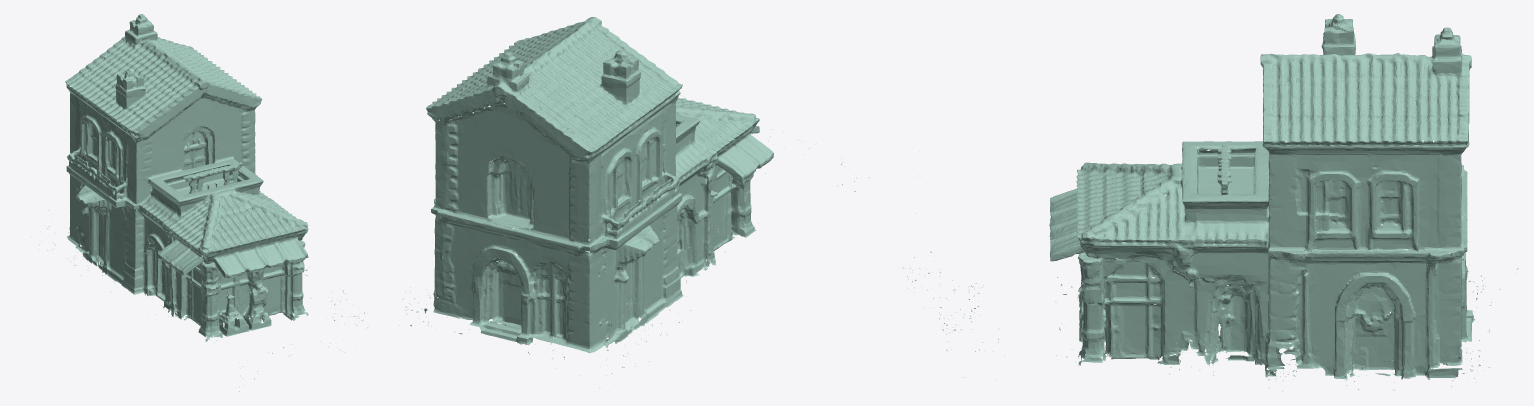
The model's file is european-block-01-building-0.glb.
3 renders of one model, left to right at view 1: azimuth 30°, elevation 25°; view 2: azimuth 150°, elevation 25°; view 3: azimuth 270°, elevation 25°, orthographic. The views are drawn at different scales.
Visible parts, largest first — view 1: building_0; view 2: building_0; view 3: building_0.
Boxes of the visible parts, x1=… form: building_0: x1=38, y1=14, x2=367, y2=391; building_0: x1=399, y1=14, x2=869, y2=388; building_0: x1=903, y1=14, x2=1518, y2=391.
Size of the model in its own units: 0.4356 by 0.5101 by 0.9179.
